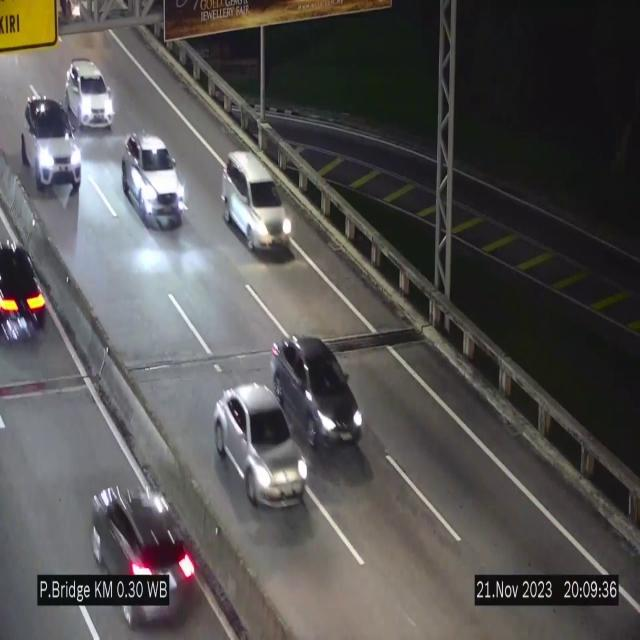Car: (214, 385, 308, 507), (272, 339, 362, 466), (222, 152, 292, 252), (20, 89, 84, 194), (122, 132, 186, 228), (66, 60, 114, 128)
